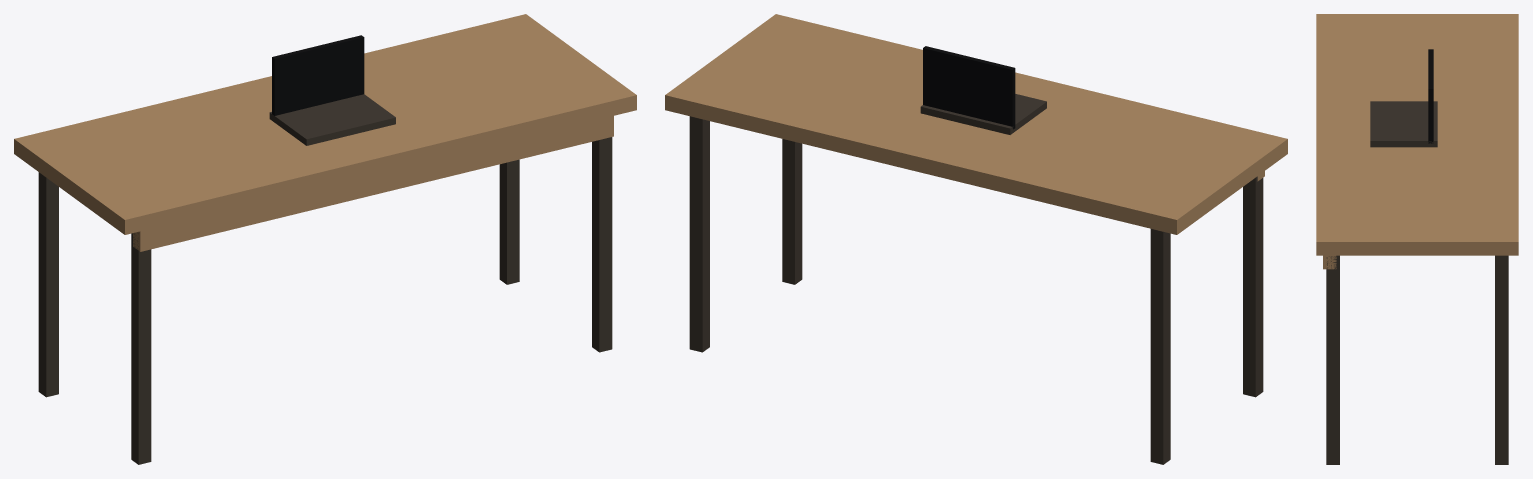
3 renders of one model, left to right at view 1: azimuth 30°, elevation 25°; view 2: azimuth 150°, elevation 25°; view 3: azimuth 270°, elevation 25°, orthographic. The views are drawn at different scales.
Visible parts, largest first — view 1: desk; view 2: desk; view 3: desk.
Part boxes in pixels (x1,y1,x2,y2): desk: (14, 14, 636, 464); desk: (665, 14, 1287, 464); desk: (1316, 14, 1518, 464).
Bounding box in the file's own units: 1.6 × 0.95 × 0.6.
